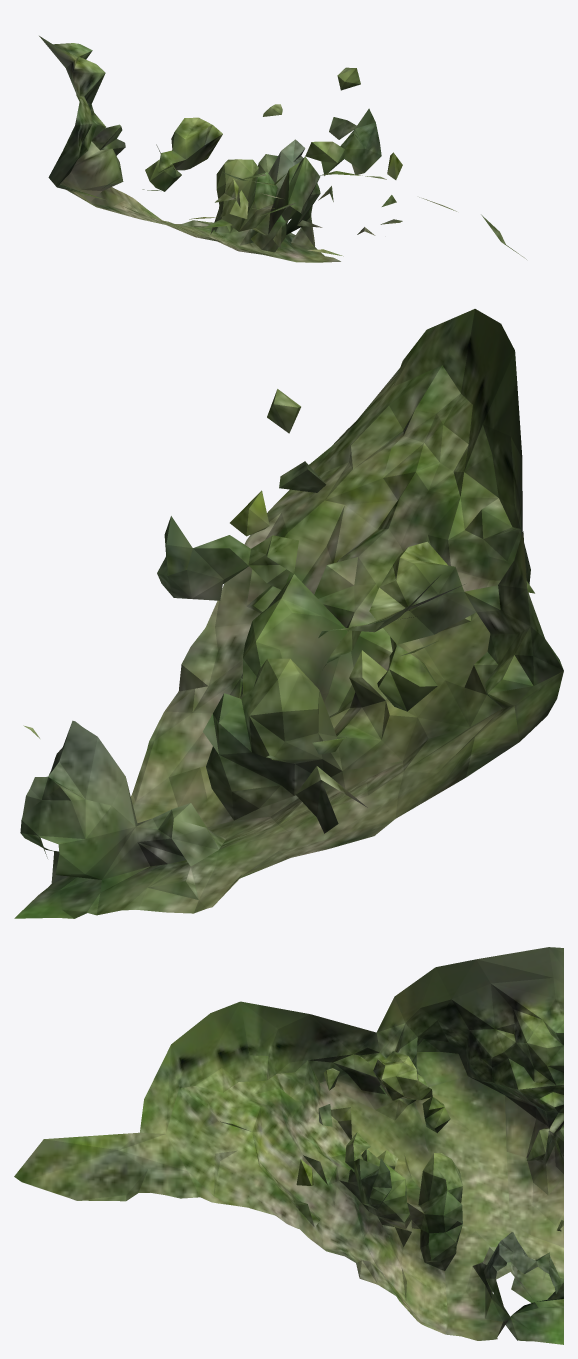
3 views of the same model, one above another, from view 1: azimuth 30°, elevation 25°; view 2: azimuth 150°, elevation 25°; view 3: azimuth 270°, elevation 25° (orthographic). The views are drawn at different scales.
Size of the model in its own units: 55 by 51.32 by 94.11.
2 materials, 2 textured.
